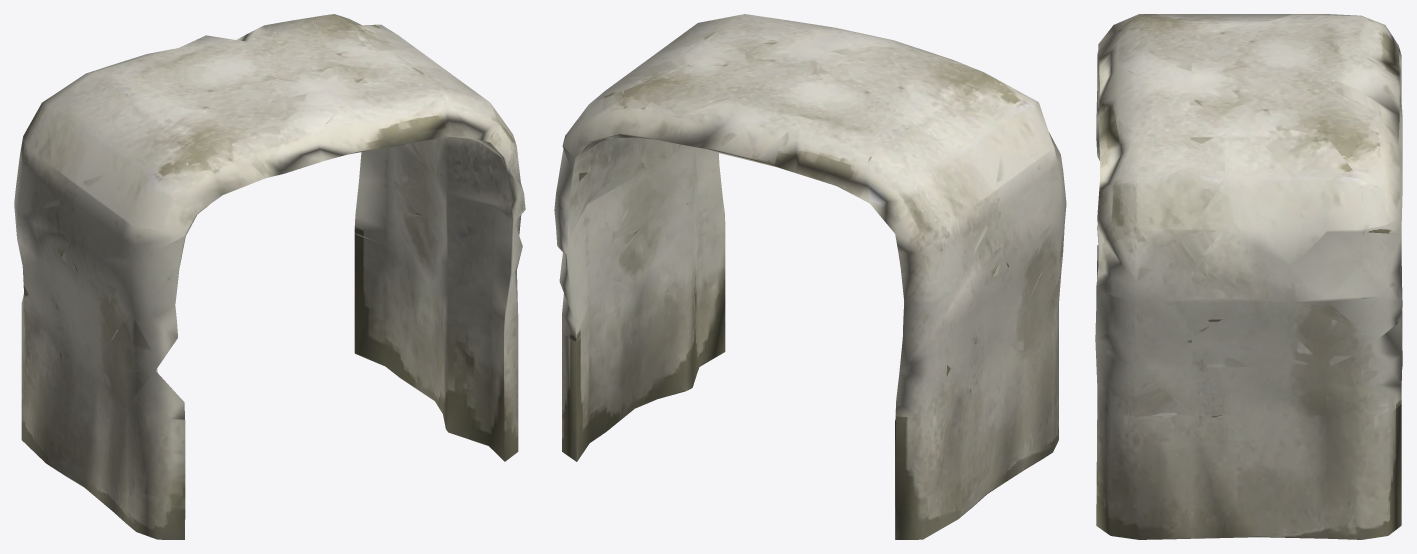
File: towl.glb
The picture shows the model from 3 angles, left to right: view 1: azimuth 30°, elevation 25°; view 2: azimuth 150°, elevation 25°; view 3: azimuth 270°, elevation 25°; orthographic projection. The views are drawn at different scales.
Bounding box in the file's own units: 1.91 × 1.73 × 1.26.
1 material, 1 textured.
